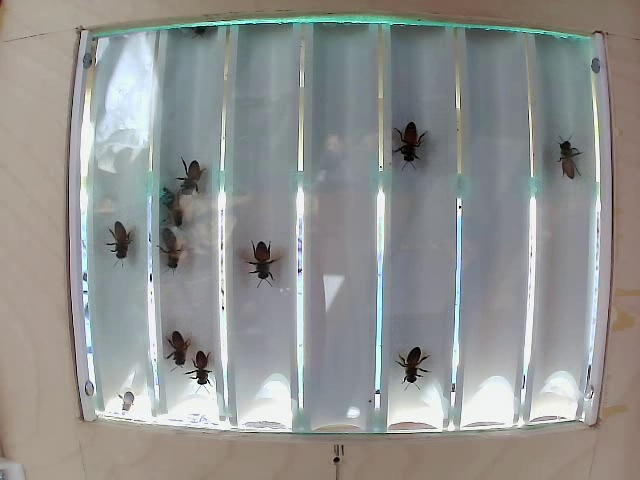bee: (103, 205, 143, 266), (241, 233, 281, 291), (382, 110, 415, 169), (187, 334, 221, 391), (550, 132, 586, 182), (154, 237, 187, 289), (153, 183, 187, 233), (176, 151, 206, 205), (397, 340, 425, 387), (159, 330, 189, 371)
